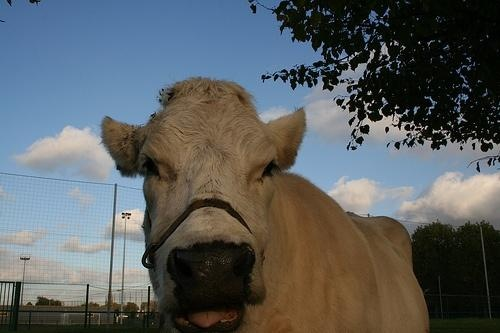cow: (100, 76, 433, 333)
